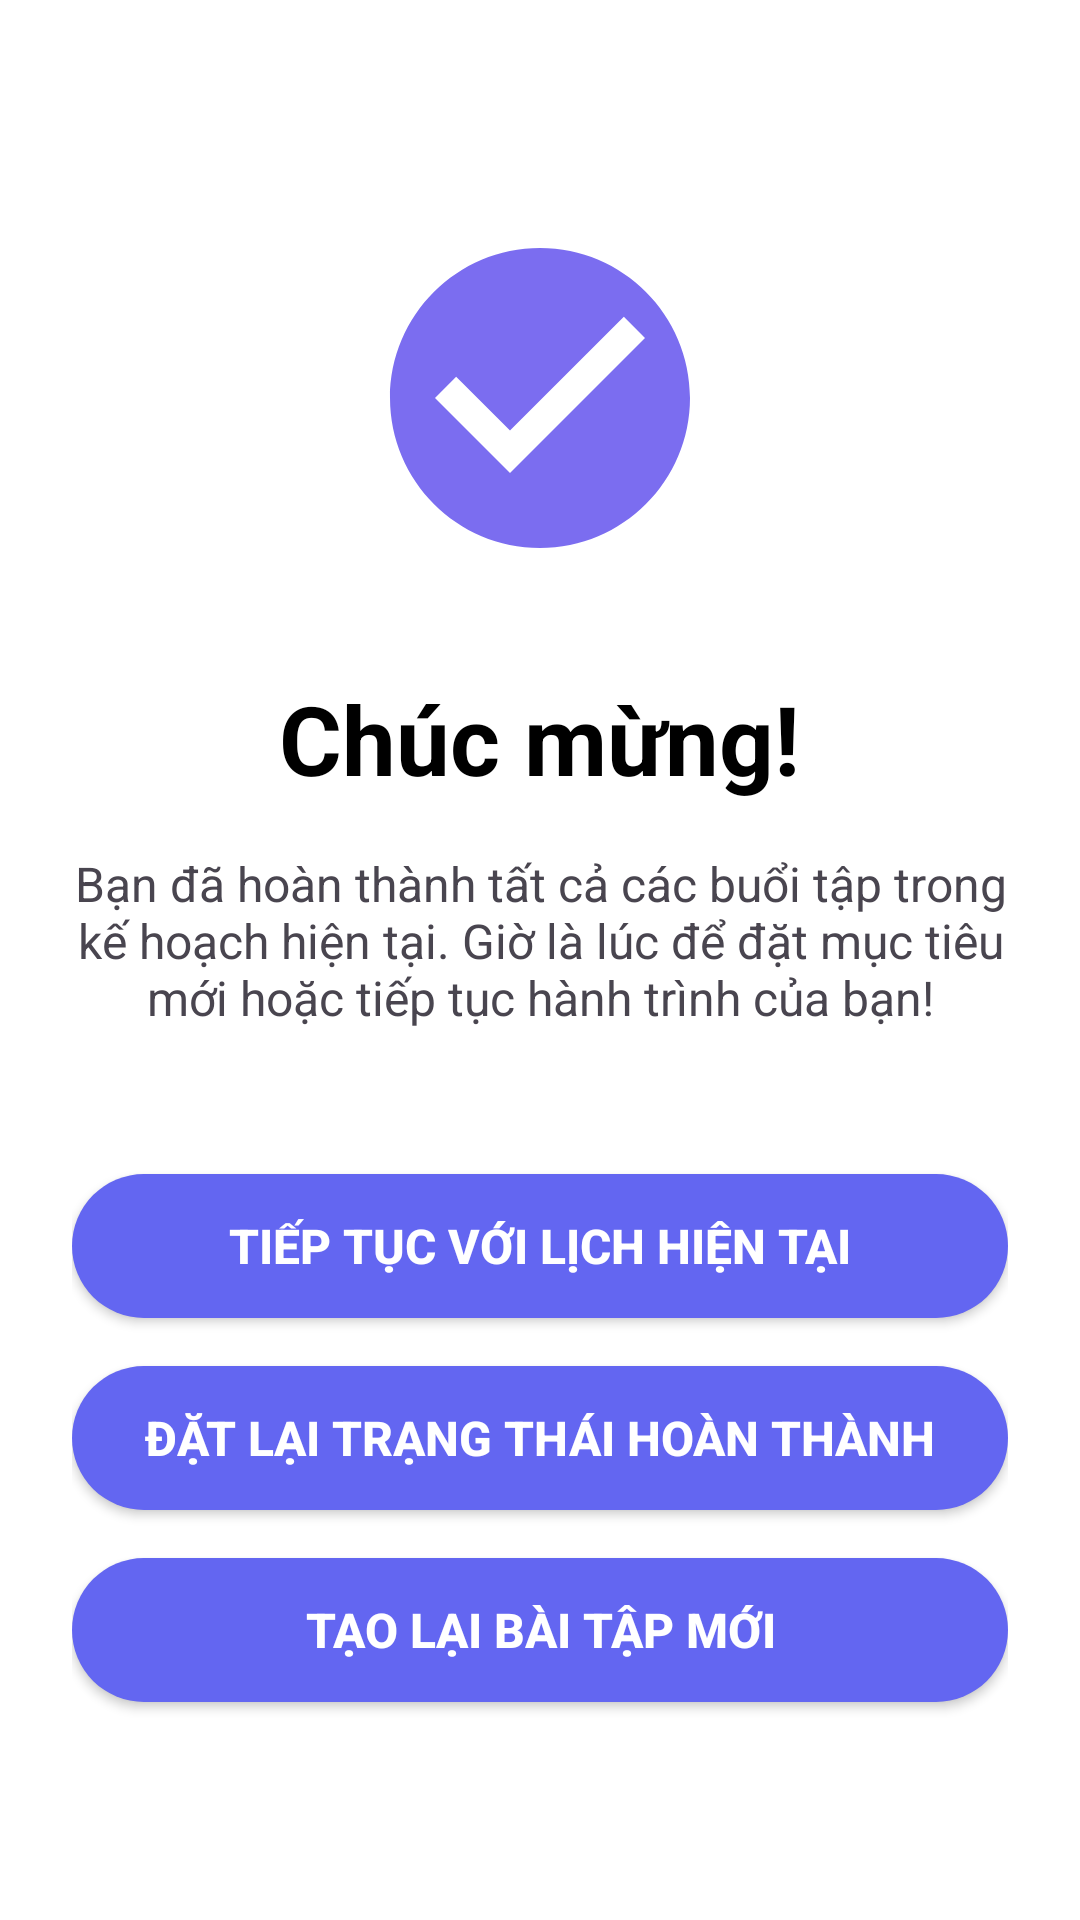

Named icons in this screenshot (1080x1920) and their centers, point (x, y):
check: point (540, 398)
